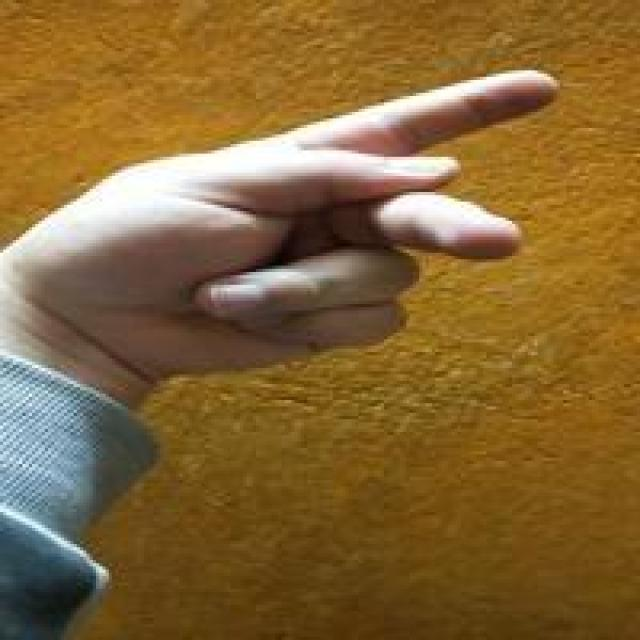K: (19, 62, 579, 386)
